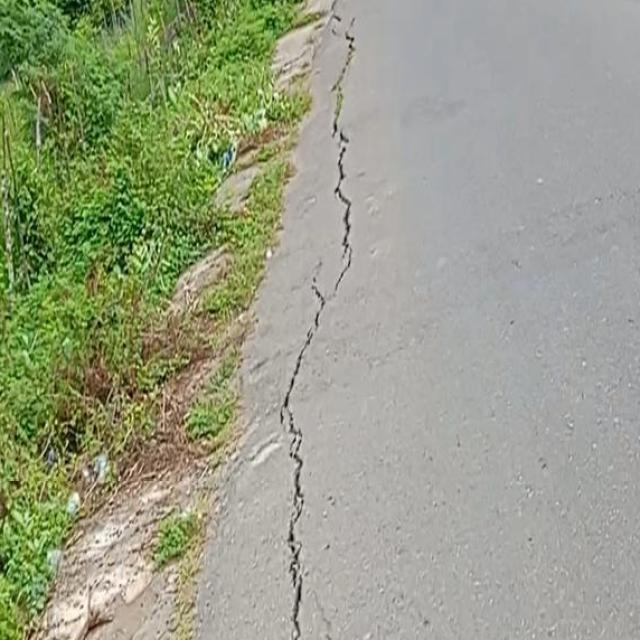Memanjang: (269, 15, 362, 640)
